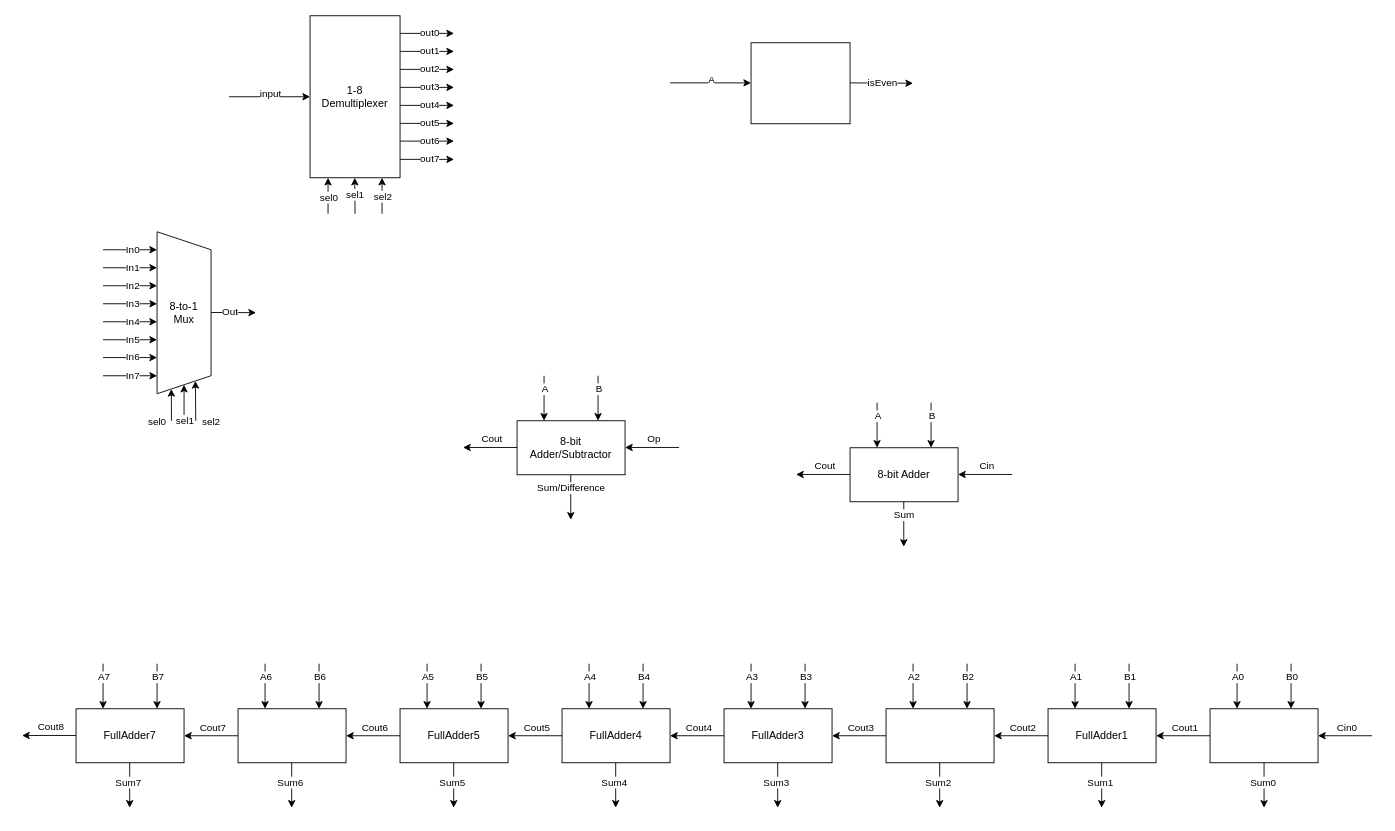
Some shapes in this 1395 by 831 pixel diagram are drawn without their labels. Here are the shapes that lost their labels. From the top down, the centre of each, then its label:
At (x=800, y=83): "64-bit number parity checker".
At (x=291, y=735): "FullAdder6".
At (x=939, y=735): "FullAdder2".
At (x=1263, y=735): "FullAdder0".
